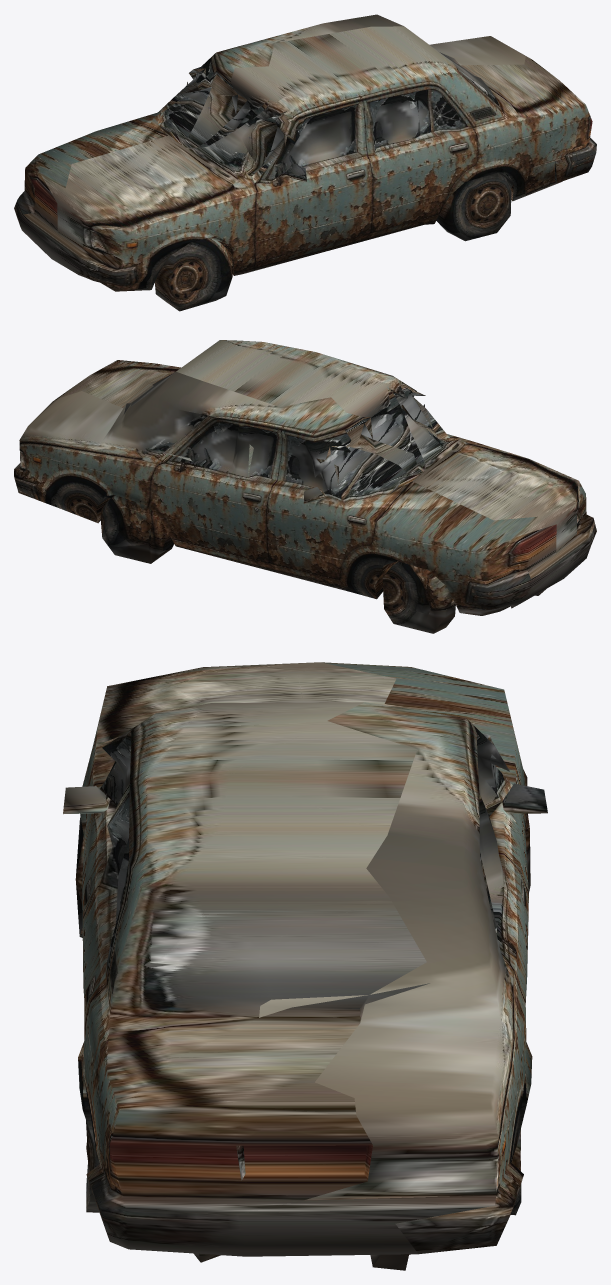
The model's file is wreck.glb.
The picture shows the model from 3 angles, top to bottom: view 1: azimuth 30°, elevation 25°; view 2: azimuth 150°, elevation 25°; view 3: azimuth 270°, elevation 25°; orthographic projection. The views are drawn at different scales.
Visible parts, largest first — view 1: world; view 2: world; view 3: world.
Boxes of the visible parts, bbox=[...] form: world: bbox=[14, 14, 596, 311]; world: bbox=[14, 340, 596, 633]; world: bbox=[63, 662, 547, 1270].
Size of the model in its own units: 4.83 by 1.5 by 1.98.
1 material, 1 textured.
